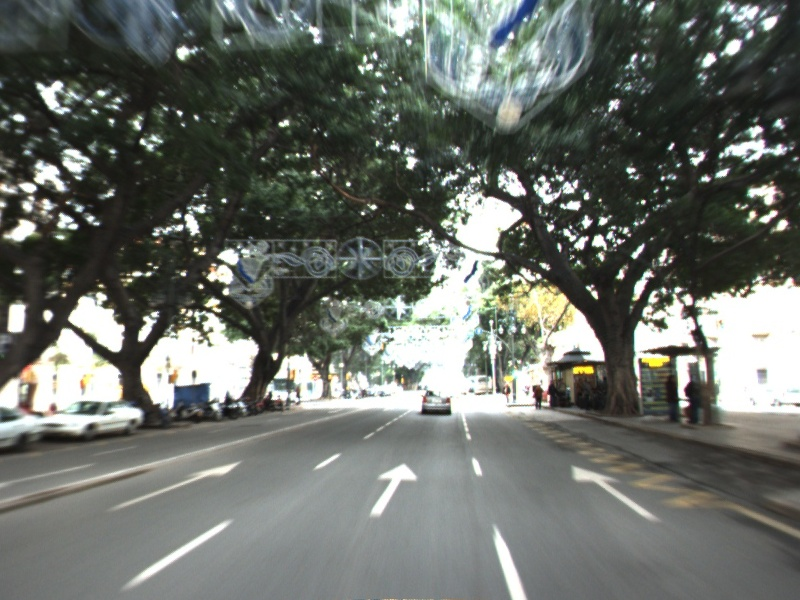STRAIGHT: (101, 458, 246, 515), (569, 463, 667, 525), (366, 461, 420, 519)
